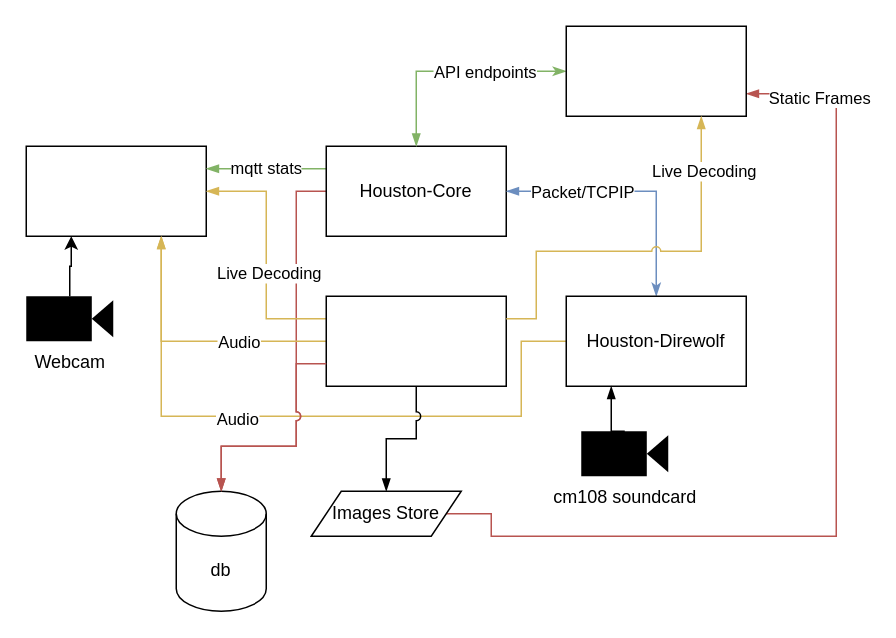
The diagram is 896 pixels wide and 638 high, and some of its shapes have lost their labels. Each missing label, with the box of its shape:
Houston UI: (565, 25, 746, 116)
Houston-SSTV: (325, 295, 506, 386)
Houston-Streamer: (25, 145, 206, 236)
